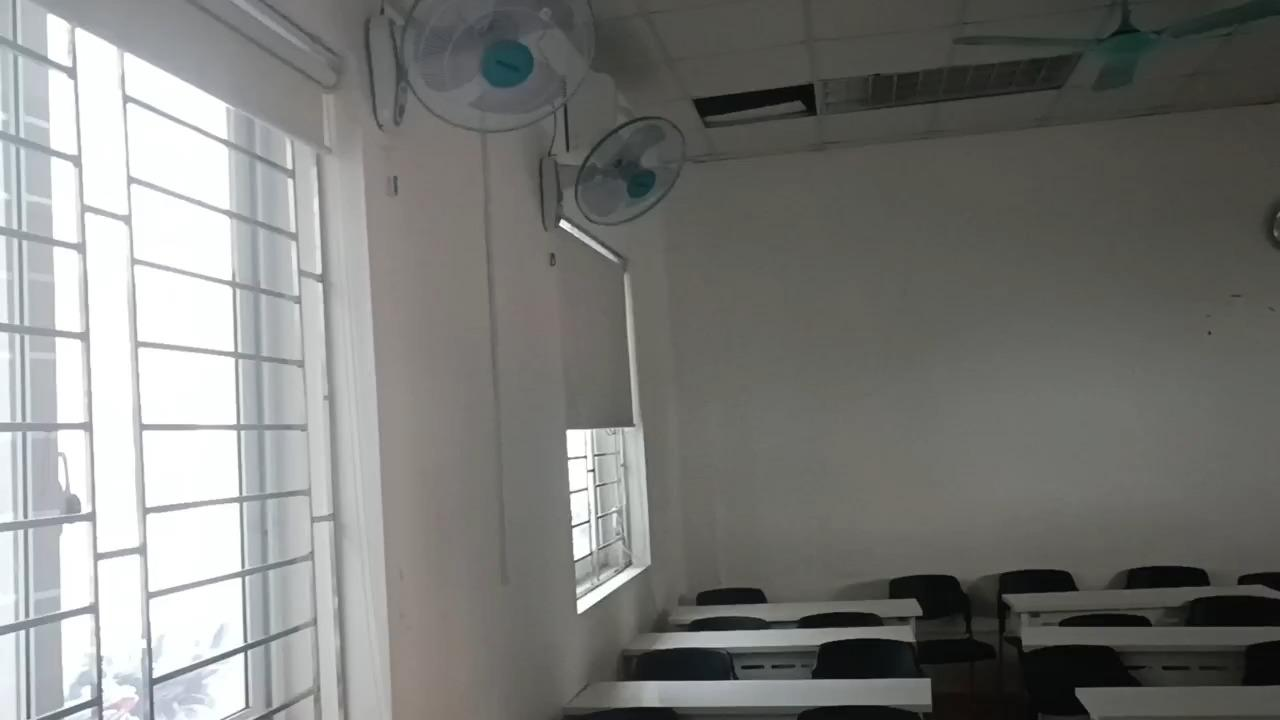chair: (883, 575, 992, 689), (1023, 646, 1146, 710), (814, 642, 922, 679), (1188, 597, 1279, 628), (636, 649, 736, 677), (998, 571, 1077, 593), (1123, 568, 1212, 587), (1242, 641, 1279, 681), (1058, 609, 1150, 625), (691, 619, 769, 636), (798, 612, 881, 627), (698, 589, 775, 604), (1236, 573, 1279, 589)
fan: (361, 5, 591, 147), (969, 5, 1279, 97), (551, 122, 710, 256)
table: (571, 674, 930, 710), (1005, 579, 1279, 612), (1065, 684, 1279, 717), (626, 625, 915, 649), (660, 597, 923, 622), (1018, 622, 1279, 646)
